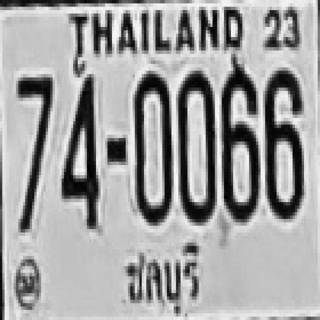N00: (176, 69, 215, 220), (133, 71, 171, 222)
N04: (59, 71, 98, 226)
N06: (219, 64, 258, 219), (263, 67, 302, 216)
N07: (17, 76, 51, 227), (17, 76, 51, 194), (17, 74, 51, 178)
P13: (119, 239, 208, 314)
